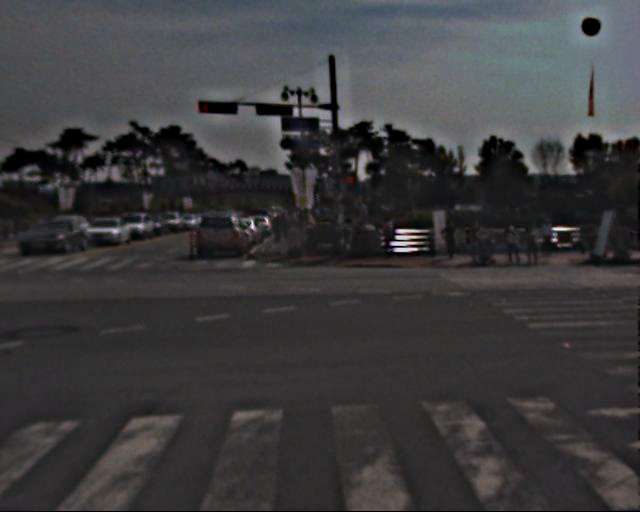person: (277, 210, 317, 249), (524, 219, 544, 268), (467, 217, 487, 266), (502, 221, 522, 269), (329, 214, 348, 261), (380, 215, 399, 262), (540, 217, 558, 262), (444, 218, 462, 262)
